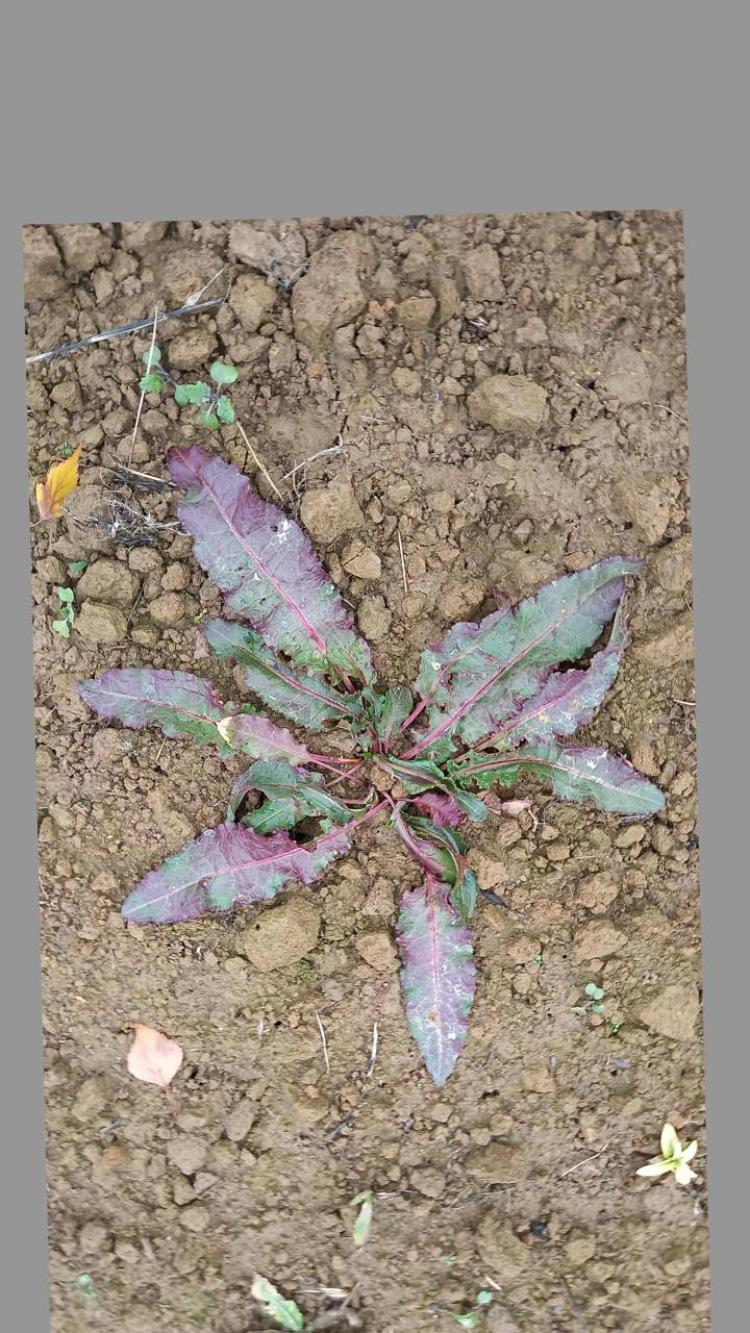zhavel: (82, 442, 662, 1094)
